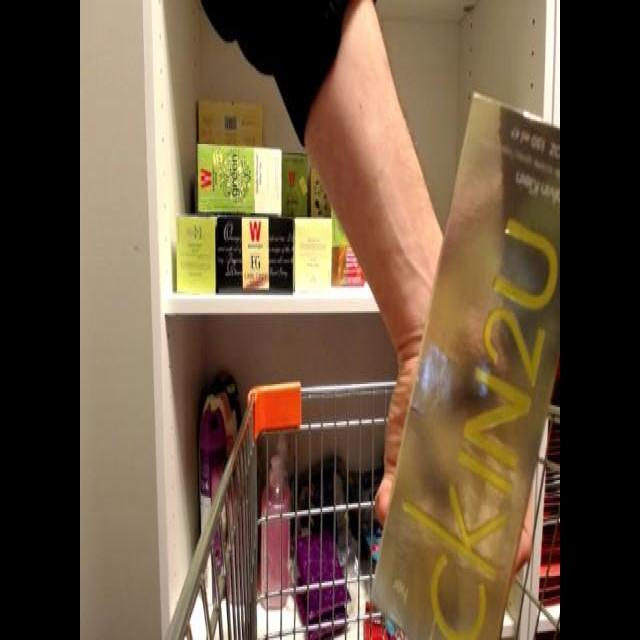Calvin Klein: (365, 82, 558, 636)
